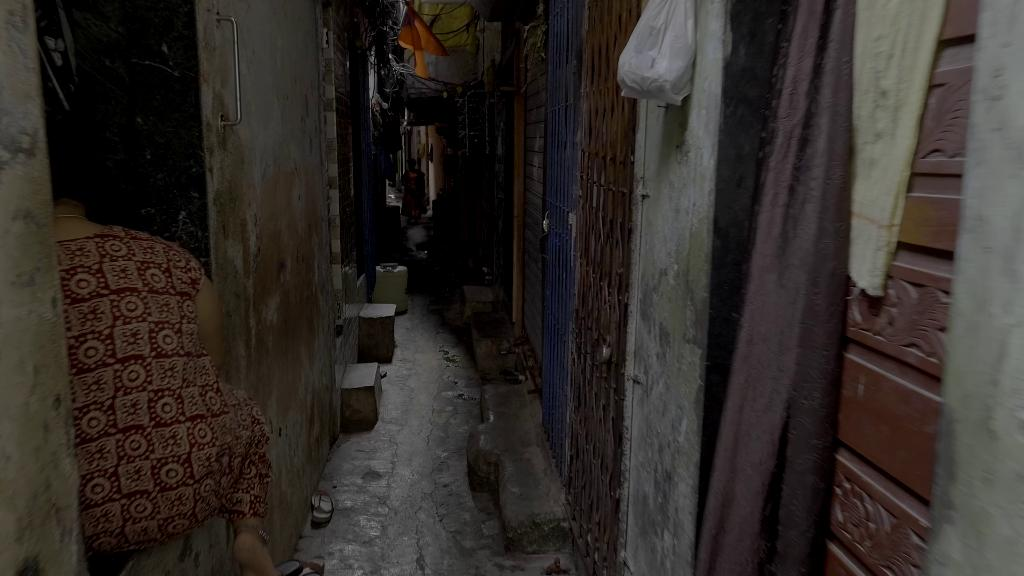garbage: (610, 0, 692, 108)
